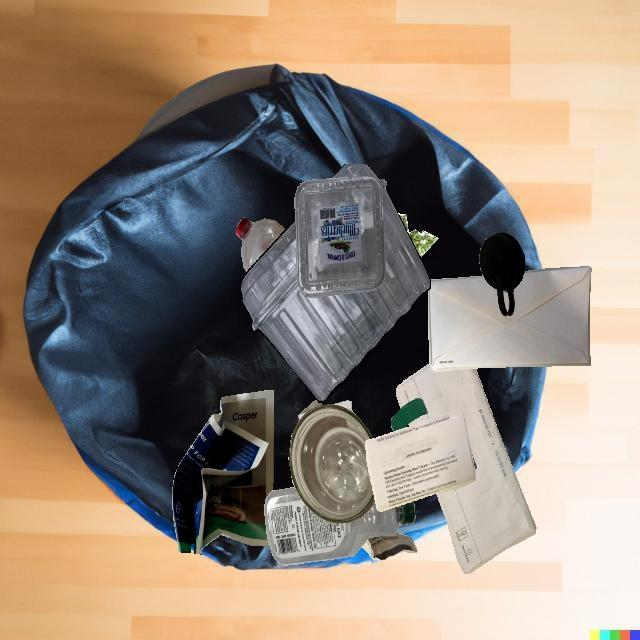biowaste: (398, 214, 439, 256)
glass: (288, 404, 375, 523)
paper: (396, 363, 536, 574), (428, 266, 591, 371), (172, 390, 274, 554), (299, 406, 397, 531), (366, 409, 476, 511), (362, 531, 417, 561)
plastic: (240, 164, 431, 402), (264, 487, 415, 566), (294, 176, 386, 297), (479, 233, 525, 317), (236, 217, 285, 272), (391, 398, 428, 432)
